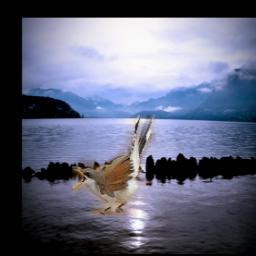Cuckoo: (71, 116, 155, 216)
